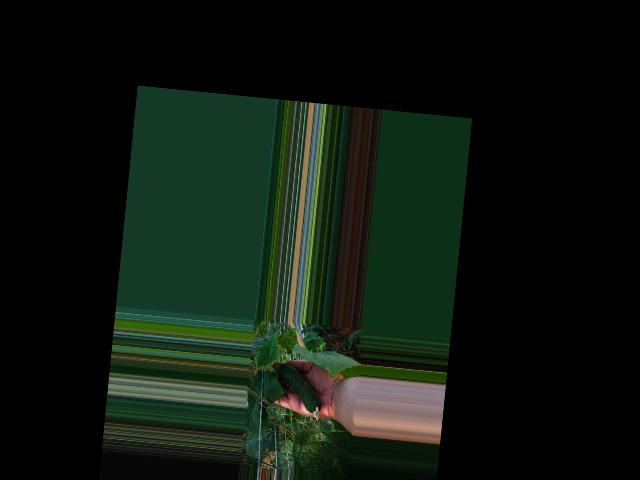cucumber: (273, 363, 325, 421)
